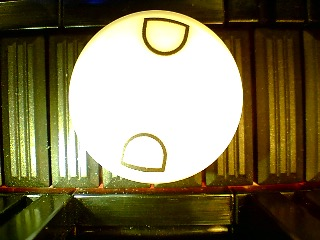MIPO2: (67, 10, 244, 184)
